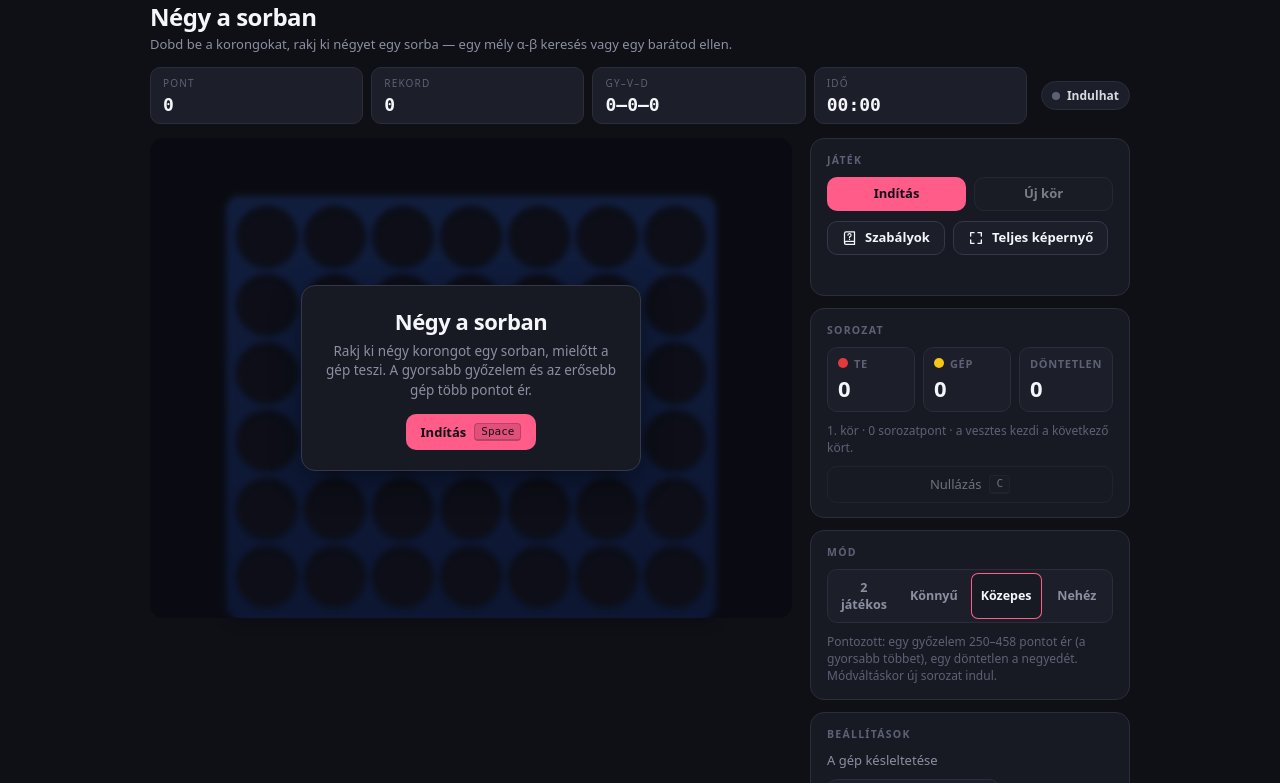
Test: Connect Four finish early › Cancel changes nothing
Press Space
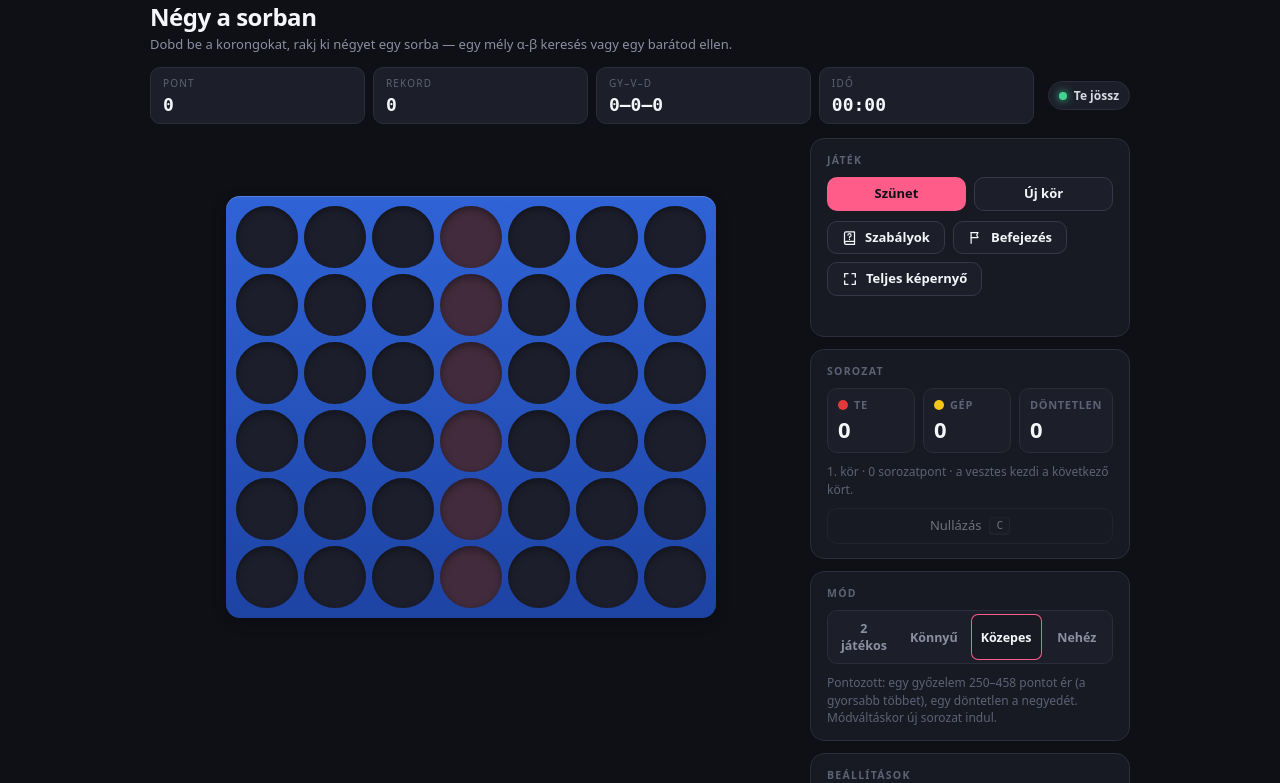
Click the button named "4. oszlop, üres" at (471, 373), box [440,138,502,608]
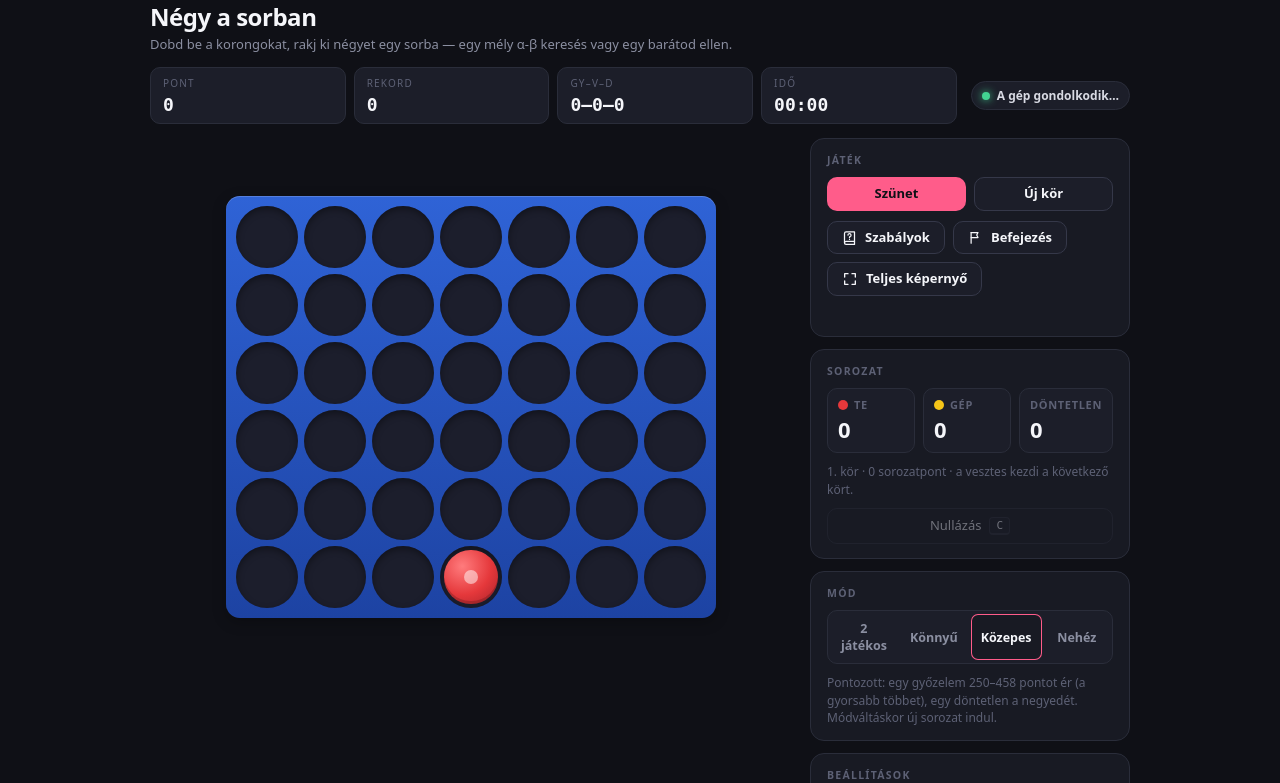
Click the button "Befejezés" at (1010, 237), box [953,221,1067,254]
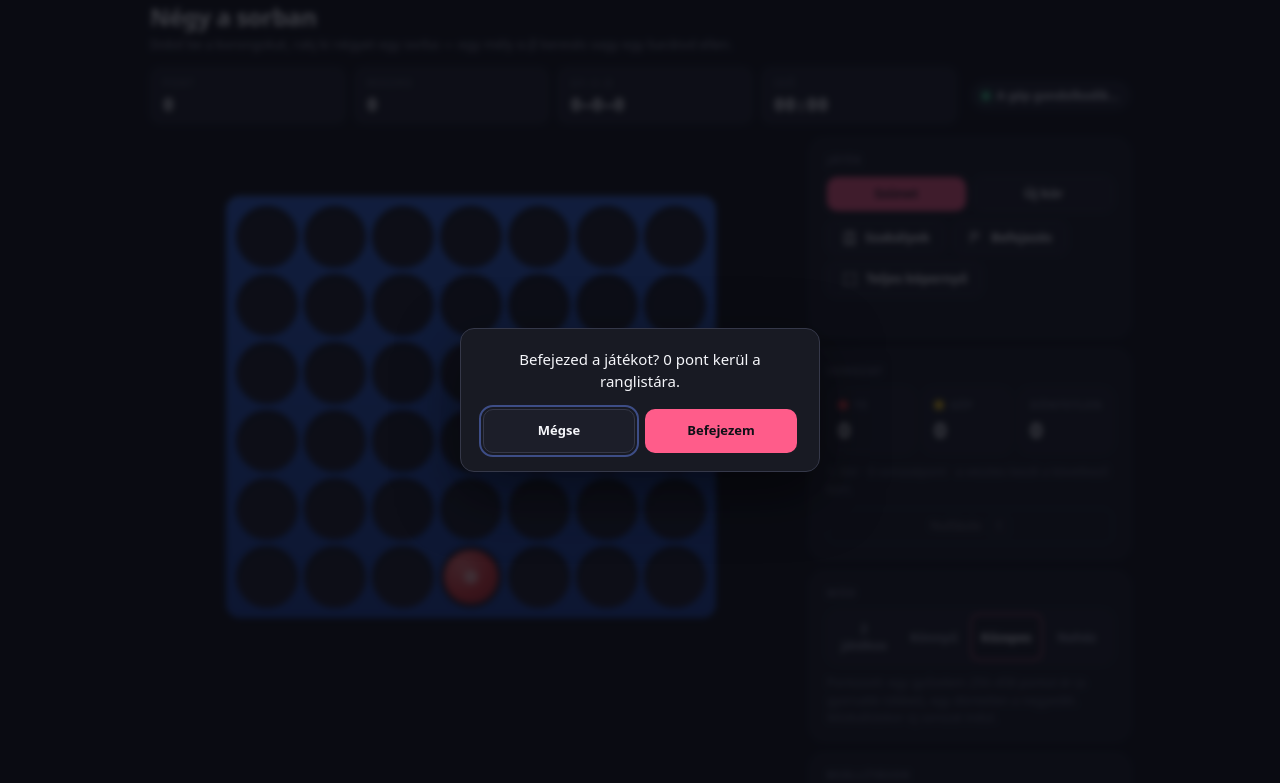
Click the button "Mégse" at (559, 431), box [483,409,635,453]
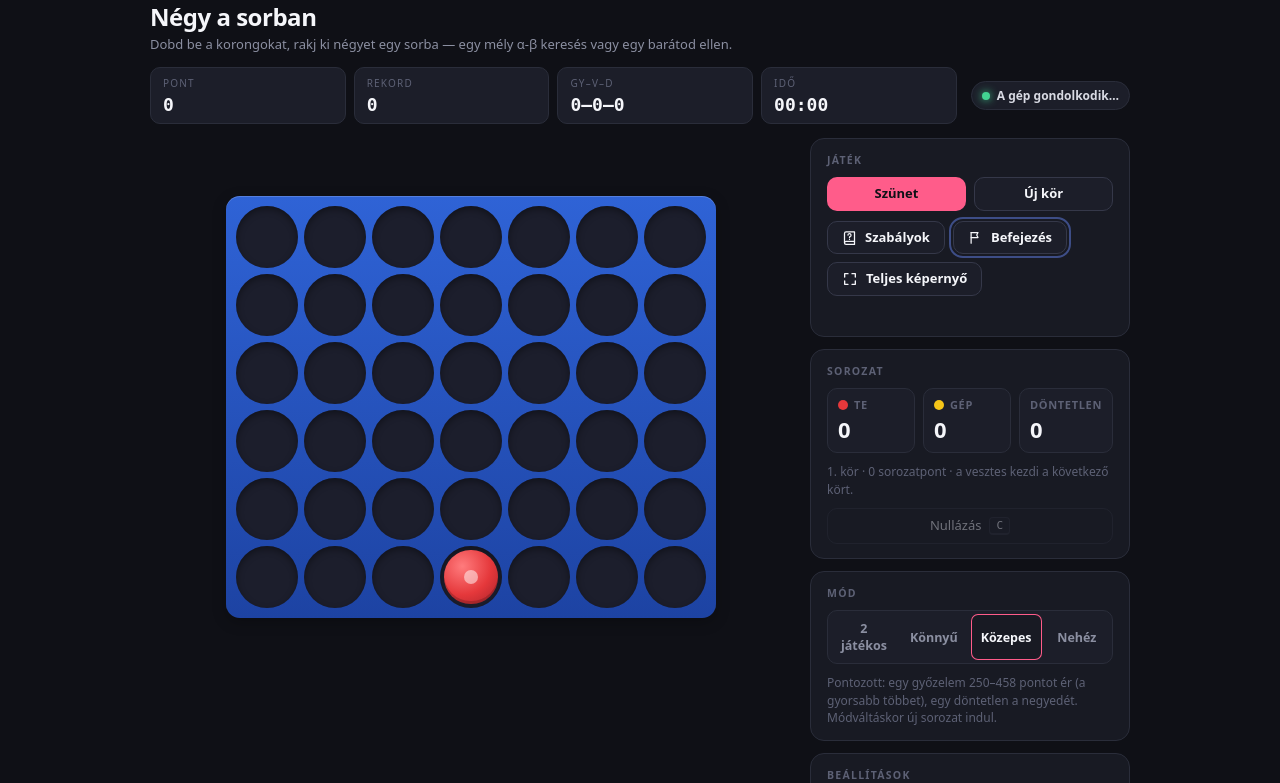
Expected: the dialog is gone
